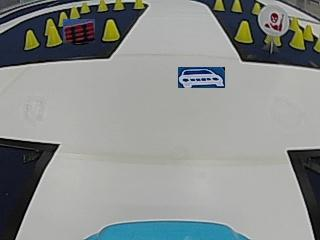evil: (257, 4, 289, 36)
